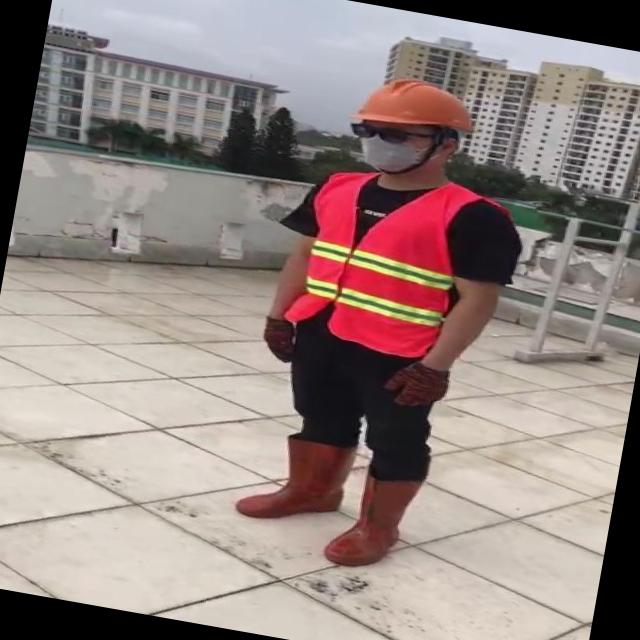hard_hat: (351, 68, 482, 142)
safety_vest: (283, 160, 477, 362)
vehicle: (216, 58, 547, 588)
work_boots: (235, 428, 358, 534), (318, 467, 419, 576)
